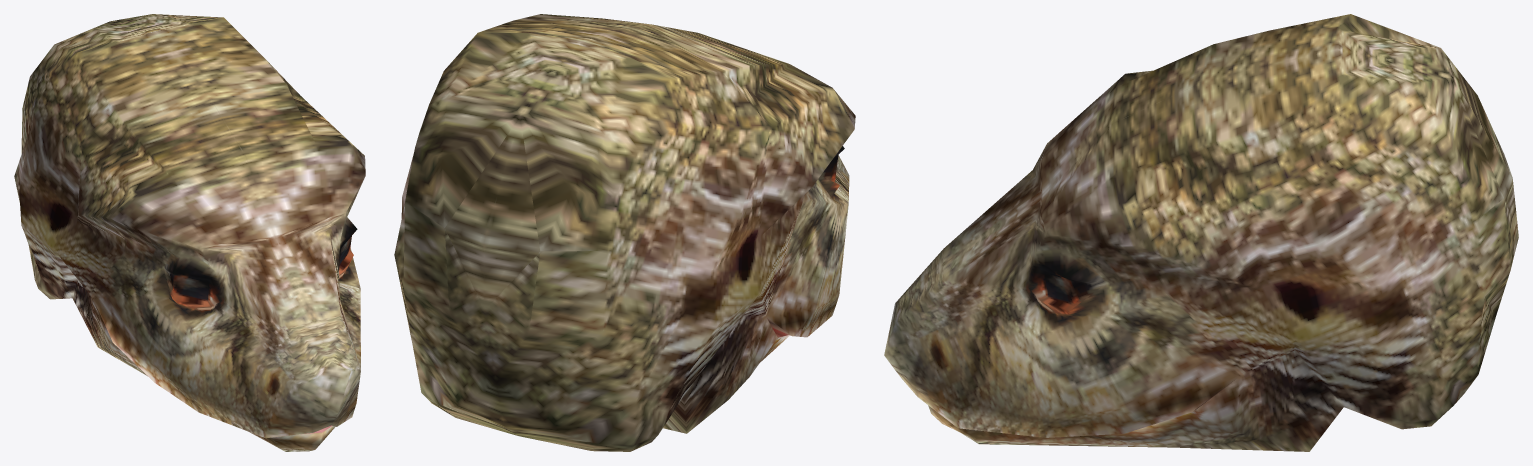
File: b_n_argonian_f_head_01.glb
3 renders of one model, left to right at view 1: azimuth 30°, elevation 25°; view 2: azimuth 150°, elevation 25°; view 3: azimuth 270°, elevation 25°, orthographic. The views are drawn at different scales.
Visible parts, largest first — view 1: Tri B_N_Argonian_F_Head_01; view 2: Tri B_N_Argonian_F_Head_01; view 3: Tri B_N_Argonian_F_Head_01.
Boxes of the visible parts, x1=… form: Tri B_N_Argonian_F_Head_01: x1=14, y1=14, x2=365, y2=451; Tri B_N_Argonian_F_Head_01: x1=394, y1=14, x2=855, y2=451; Tri B_N_Argonian_F_Head_01: x1=884, y1=14, x2=1518, y2=451.
Size of the model in its own units: 0.1052 by 0.1225 by 0.1826.
Materials: 1 (1 with a texture image).
